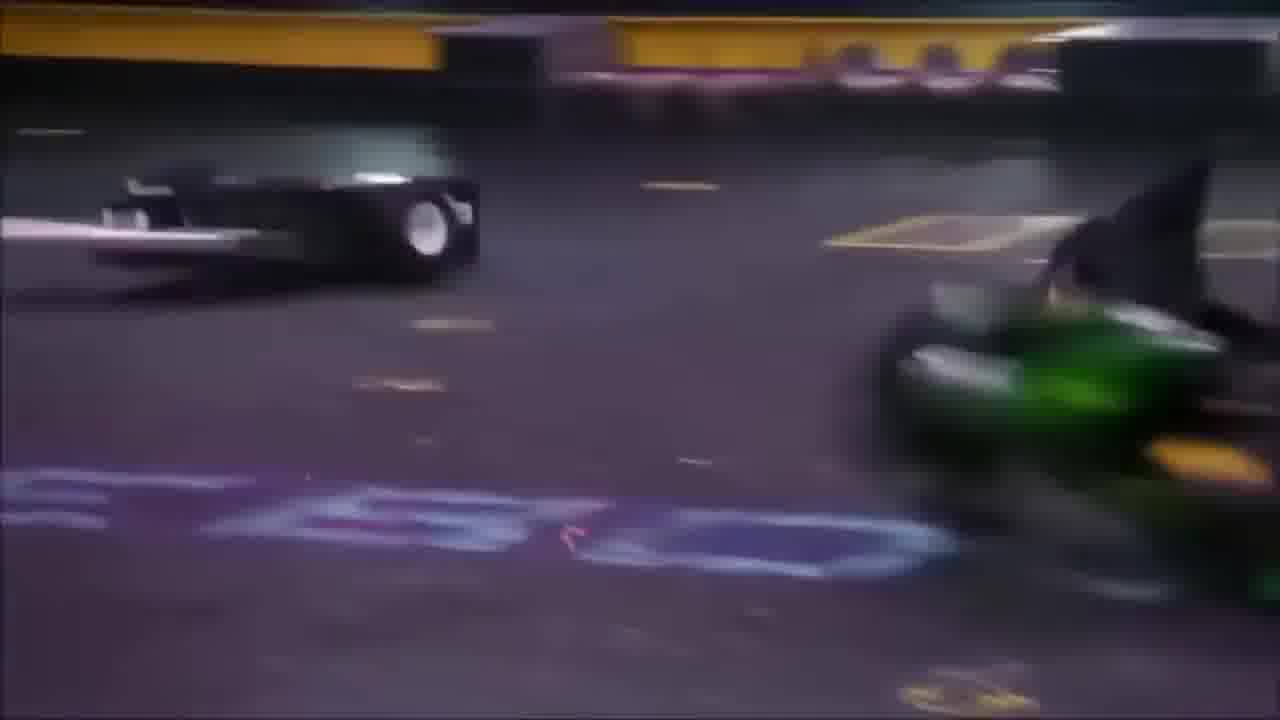combatbot: (820, 280, 1279, 566), (89, 135, 475, 307)
